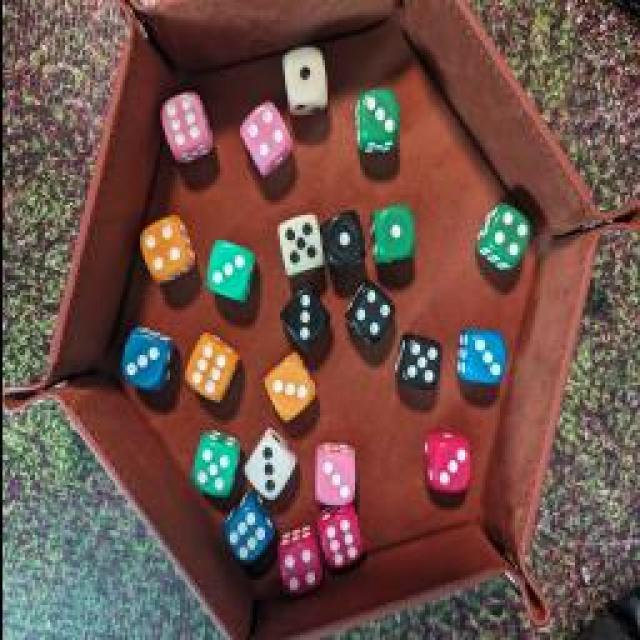dice_1: (278, 43, 328, 115), (364, 201, 416, 269), (320, 206, 370, 276)
dice_3: (238, 424, 298, 508), (258, 347, 318, 425), (112, 326, 172, 396), (275, 278, 330, 354), (305, 438, 360, 512), (452, 324, 506, 394), (201, 235, 259, 300), (421, 424, 471, 496), (351, 80, 401, 152)
dice_4: (238, 98, 294, 182), (468, 195, 534, 265), (269, 522, 326, 602), (135, 212, 193, 288), (342, 279, 400, 346)
dice_5: (186, 430, 242, 500), (268, 210, 322, 275), (389, 332, 441, 392)
dice_6: (176, 326, 242, 406), (155, 85, 215, 170), (216, 488, 274, 570), (312, 508, 368, 572)
